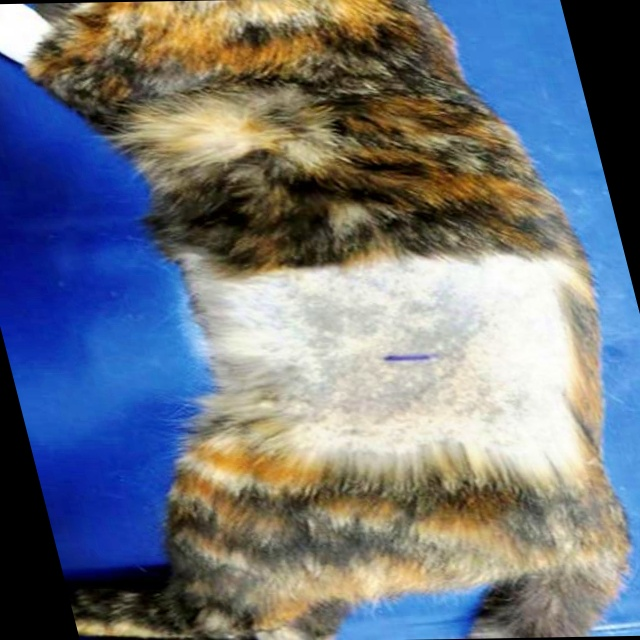hairloss: (179, 257, 613, 454)
